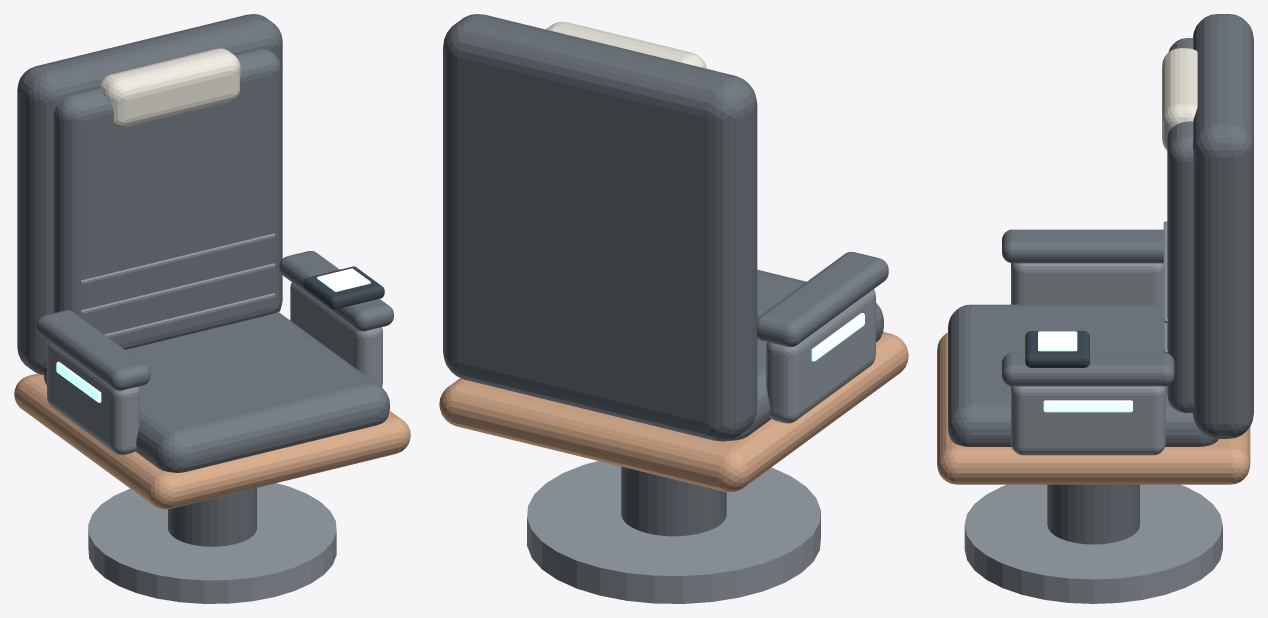
File: captain_throne.glb
3 views of the same model, side by side, from view 1: azimuth 30°, elevation 25°; view 2: azimuth 150°, elevation 25°; view 3: azimuth 270°, elevation 25° (orthographic). The views are drawn at different scales.
Visible parts, largest first — view 1: back_cushion_007, seat_cushion_005, column_001, back_shell_006, seat_frame_004, shell_017, shell_011, shell_012, shell_014, column_002, shell_015, shell_018 (+5 smaller); view 2: back_shell_006, column_001, seat_frame_004, shell_011, shell_012, column_002, seat_cushion_005, shell_017, shell_013; view 3: back_shell_006, column_001, seat_cushion_005, seat_frame_004, shell_014, back_cushion_007, shell_011, shell_012, column_002, shell_015, shell_017, shell_018 (+3 smaller).
Boxes of the visible parts, left/top/right/bottom form: back_cushion_007: left=53, top=48, right=280, bottom=349; seat_cushion_005: left=43, top=311, right=389, bottom=472; column_001: left=88, top=483, right=336, bottom=603; back_shell_006: left=17, top=14, right=282, bottom=374; seat_frame_004: left=14, top=373, right=410, bottom=509; shell_017: left=98, top=48, right=240, bottom=128; shell_011: left=47, top=341, right=139, bottom=455; shell_012: left=36, top=310, right=150, bottom=390; shell_014: left=290, top=282, right=382, bottom=387; column_002: left=168, top=488, right=256, bottom=546; shell_015: left=279, top=251, right=393, bottom=331; shell_018: left=303, top=266, right=384, bottom=309; back_shell_006: left=443, top=14, right=757, bottom=441; column_001: left=527, top=461, right=820, bottom=603; seat_frame_004: left=439, top=332, right=908, bottom=492; shell_011: left=766, top=289, right=875, bottom=423; shell_012: left=757, top=252, right=888, bottom=347; column_002: left=621, top=466, right=726, bottom=536; seat_cushion_005: left=730, top=269, right=883, bottom=440; shell_017: left=546, top=21, right=706, bottom=68; shell_013: left=811, top=313, right=864, bottom=361; back_shell_006: left=1192, top=14, right=1253, bottom=438; column_001: left=964, top=484, right=1222, bottom=603; seat_cushion_005: left=948, top=304, right=1218, bottom=446; seat_frame_004: left=937, top=332, right=1250, bottom=484; shell_014: left=1011, top=386, right=1165, bottom=455; back_cushion_007: left=1167, top=38, right=1193, bottom=412; shell_011: left=1011, top=263, right=1163, bottom=304; shell_012: left=1002, top=229, right=1163, bottom=263; column_002: left=1047, top=484, right=1139, bottom=544; shell_015: left=1002, top=352, right=1174, bottom=386; shell_017: left=1162, top=48, right=1197, bottom=150; shell_018: left=1025, top=331, right=1089, bottom=367.
Bounding box in the file's own units: 0.94 × 1.47 × 0.88.
